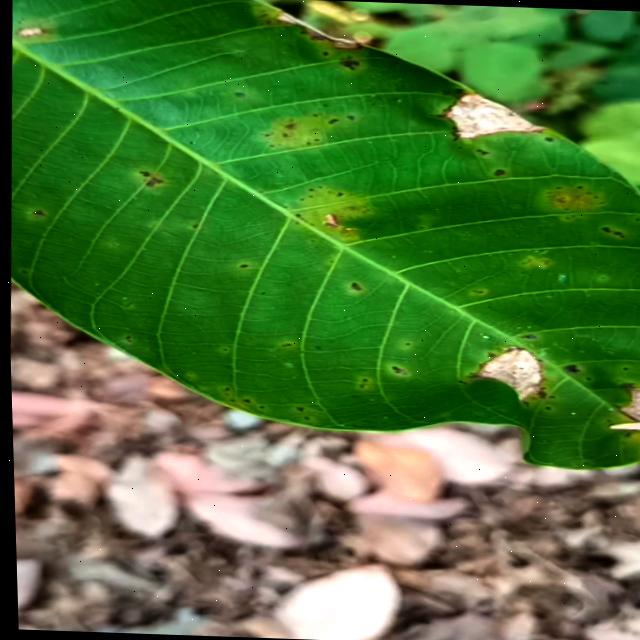Leaf-Blight: (440, 92, 542, 141), (470, 347, 543, 402), (272, 11, 361, 50), (600, 384, 640, 436)
